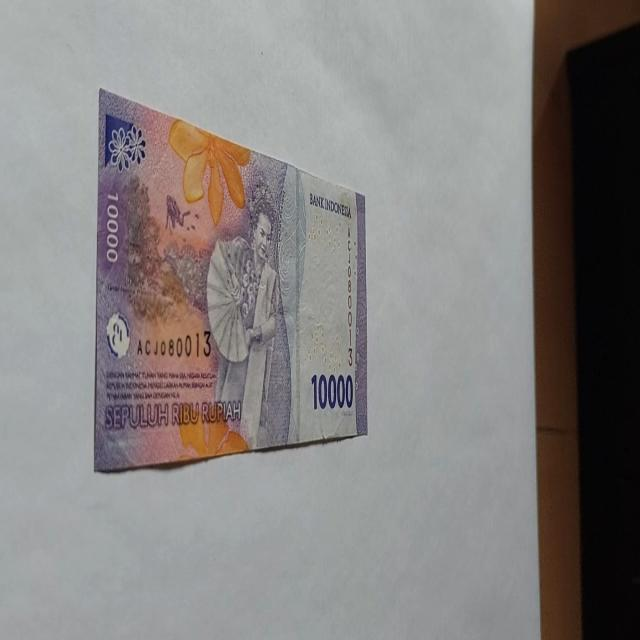sepuluh ribu rupiah: (94, 87, 368, 473), (205, 191, 291, 450), (308, 190, 352, 220)
